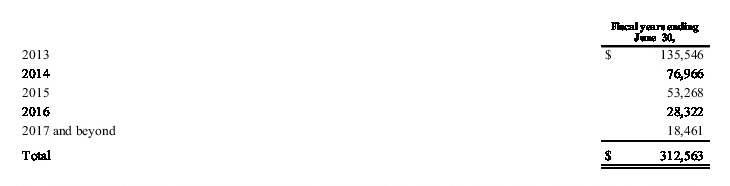table: (0, 0, 730, 186)
